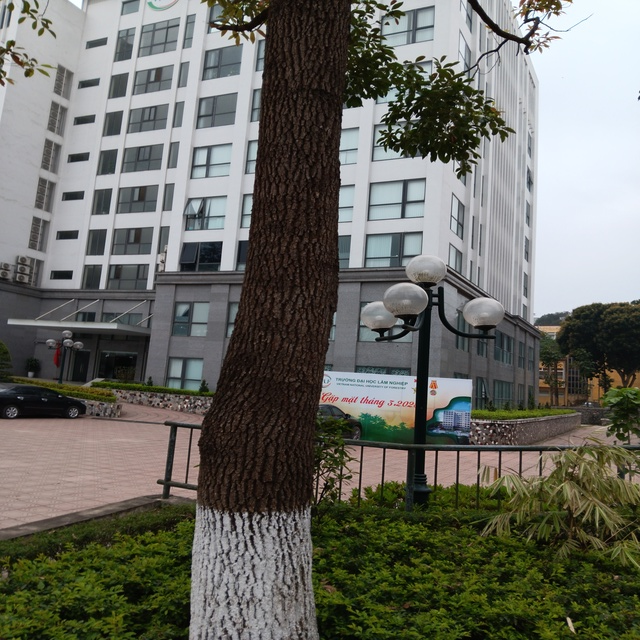cotden: (363, 252, 505, 510), (46, 324, 83, 388)
